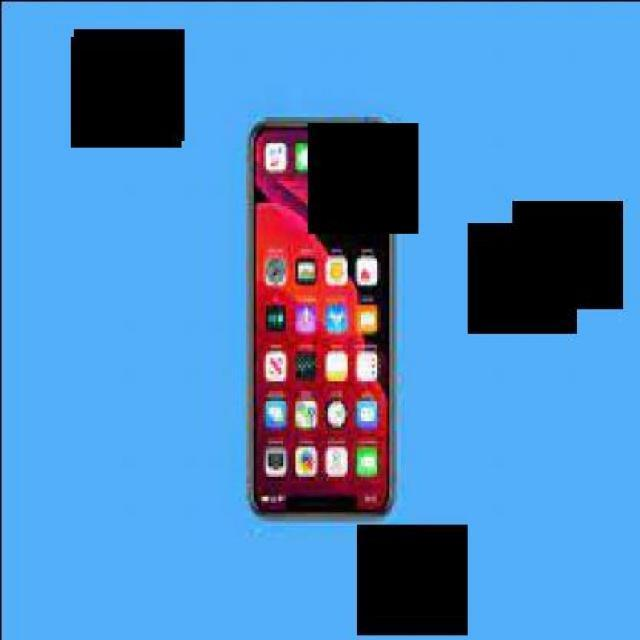phone: (247, 119, 390, 519)
